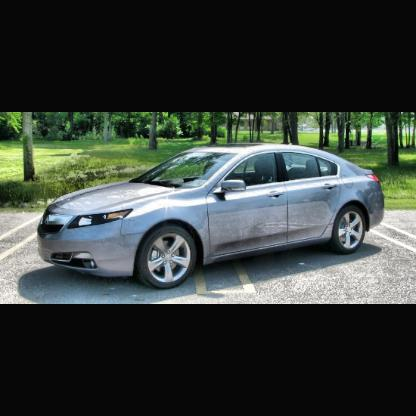Acura TL Sedan 2012: (37, 143, 387, 291)
